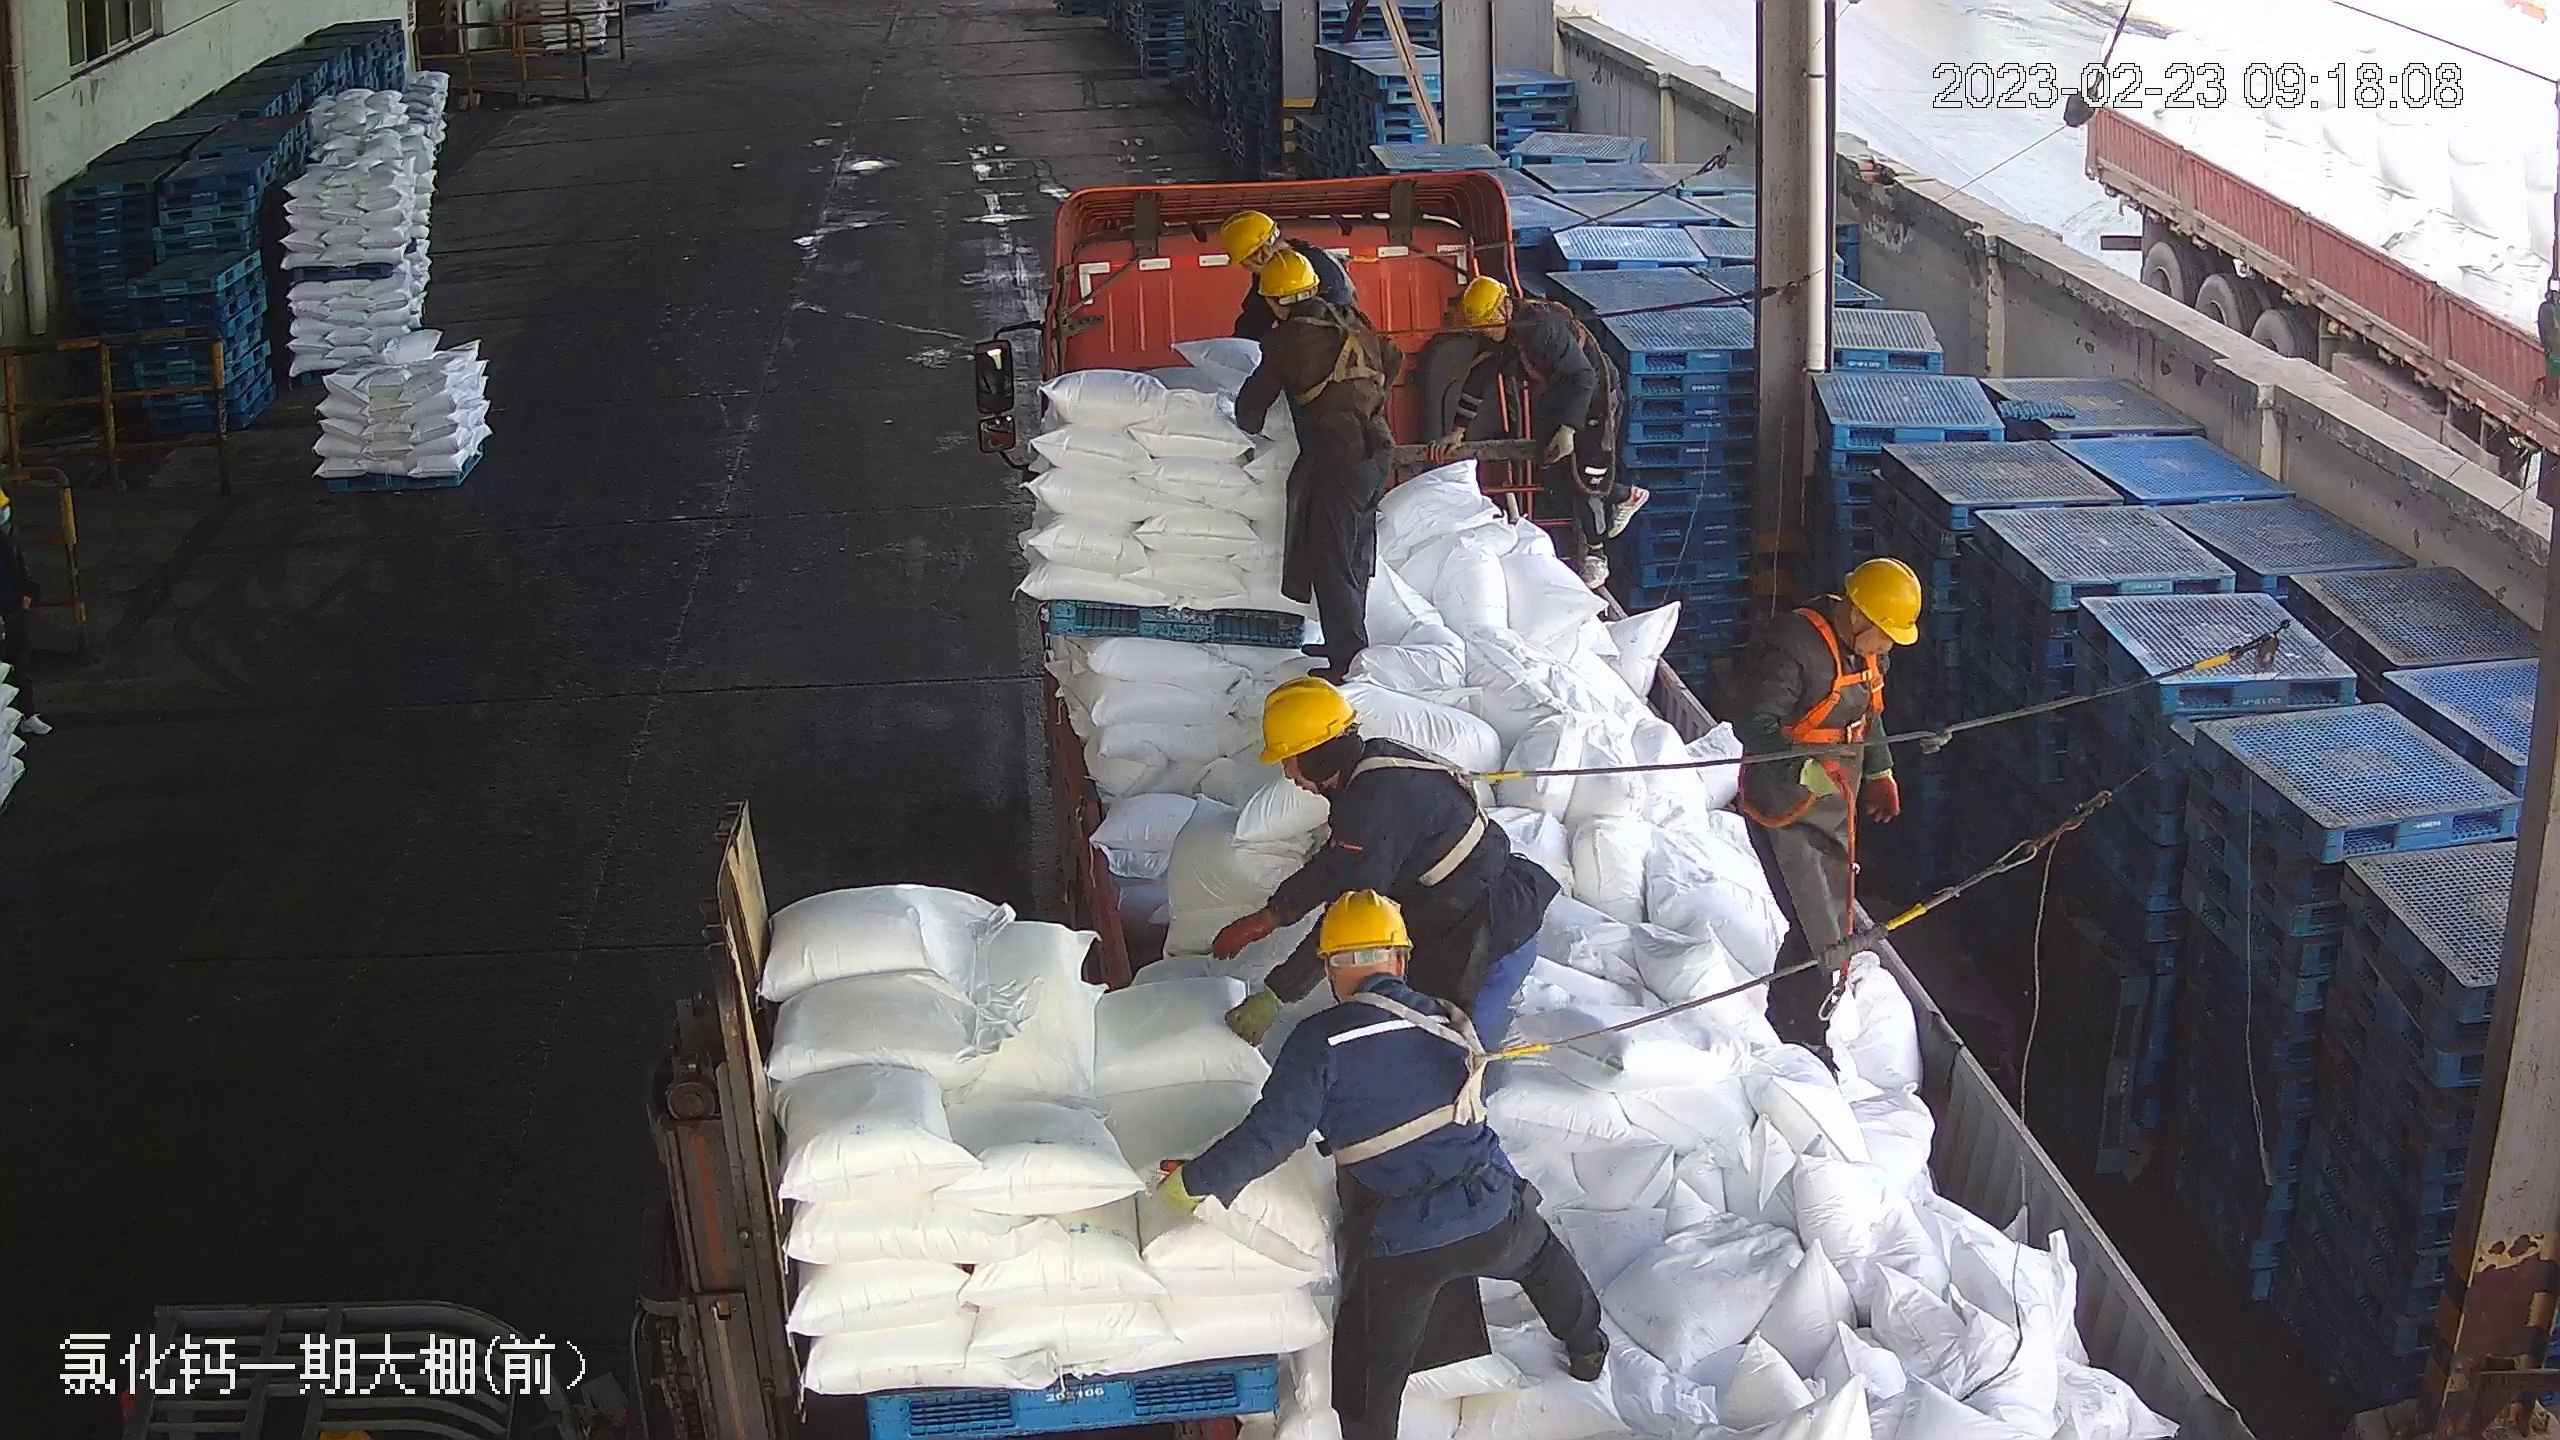belt: (1346, 988, 1547, 1157), (1352, 734, 1525, 883), (1775, 638, 1895, 771), (1289, 309, 1392, 403), (1509, 300, 1603, 387), (1313, 237, 1374, 287)
head: (1294, 891, 1470, 1071), (1254, 679, 1450, 839), (1763, 558, 1922, 697), (1252, 252, 1365, 367), (1455, 274, 1561, 367)
helmet: (1255, 676, 1357, 761), (1841, 555, 1929, 645), (1311, 890, 1412, 958), (1213, 205, 1279, 264), (1253, 247, 1322, 296), (1454, 273, 1509, 326)
people: (1170, 885, 1614, 1433), (1226, 675, 1551, 1060), (1728, 554, 1923, 1091), (1423, 267, 1639, 598), (1237, 256, 1401, 681)
truck: (978, 148, 2265, 1440)
